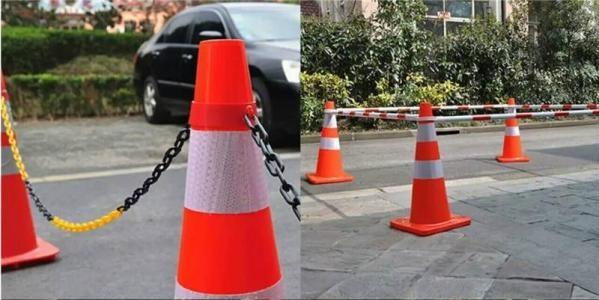cone_barrel: (165, 47, 286, 298), (393, 104, 464, 236), (305, 98, 351, 185), (494, 97, 530, 164)
